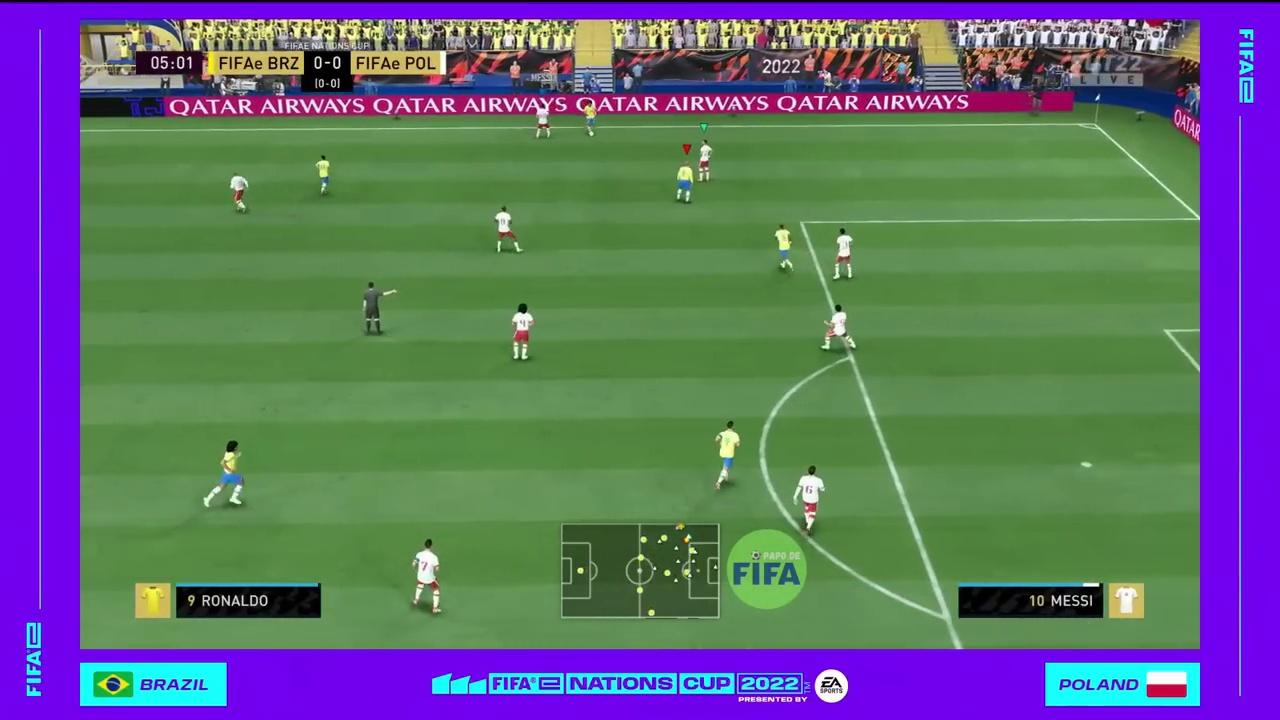scoreboard: (206, 51, 451, 76)
timestamp: (137, 52, 205, 74)
